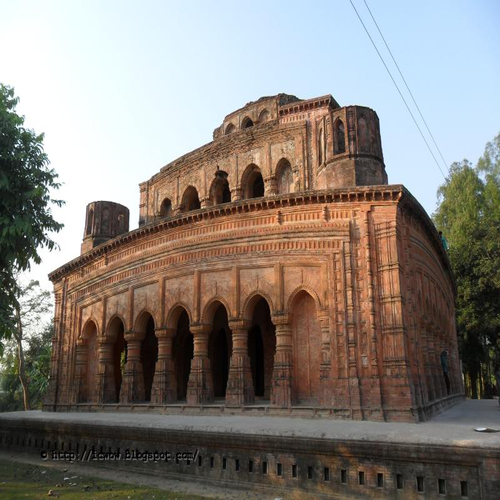Temple: (45, 83, 472, 424)
